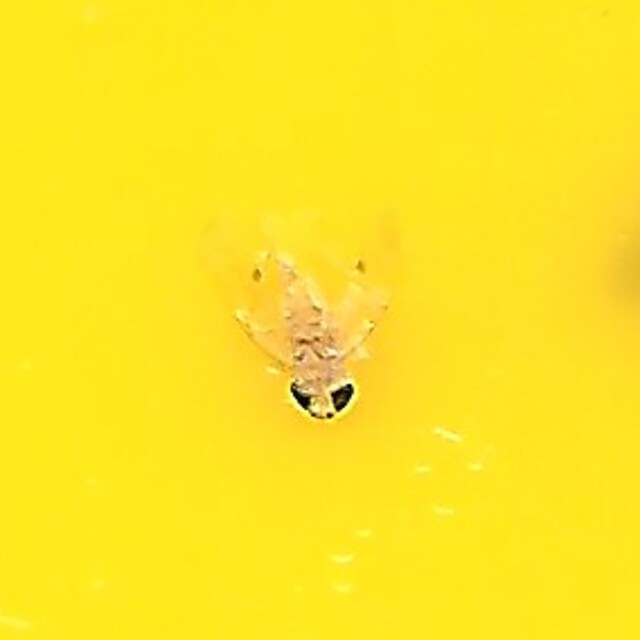Hemiptera: (225, 217, 415, 423)
